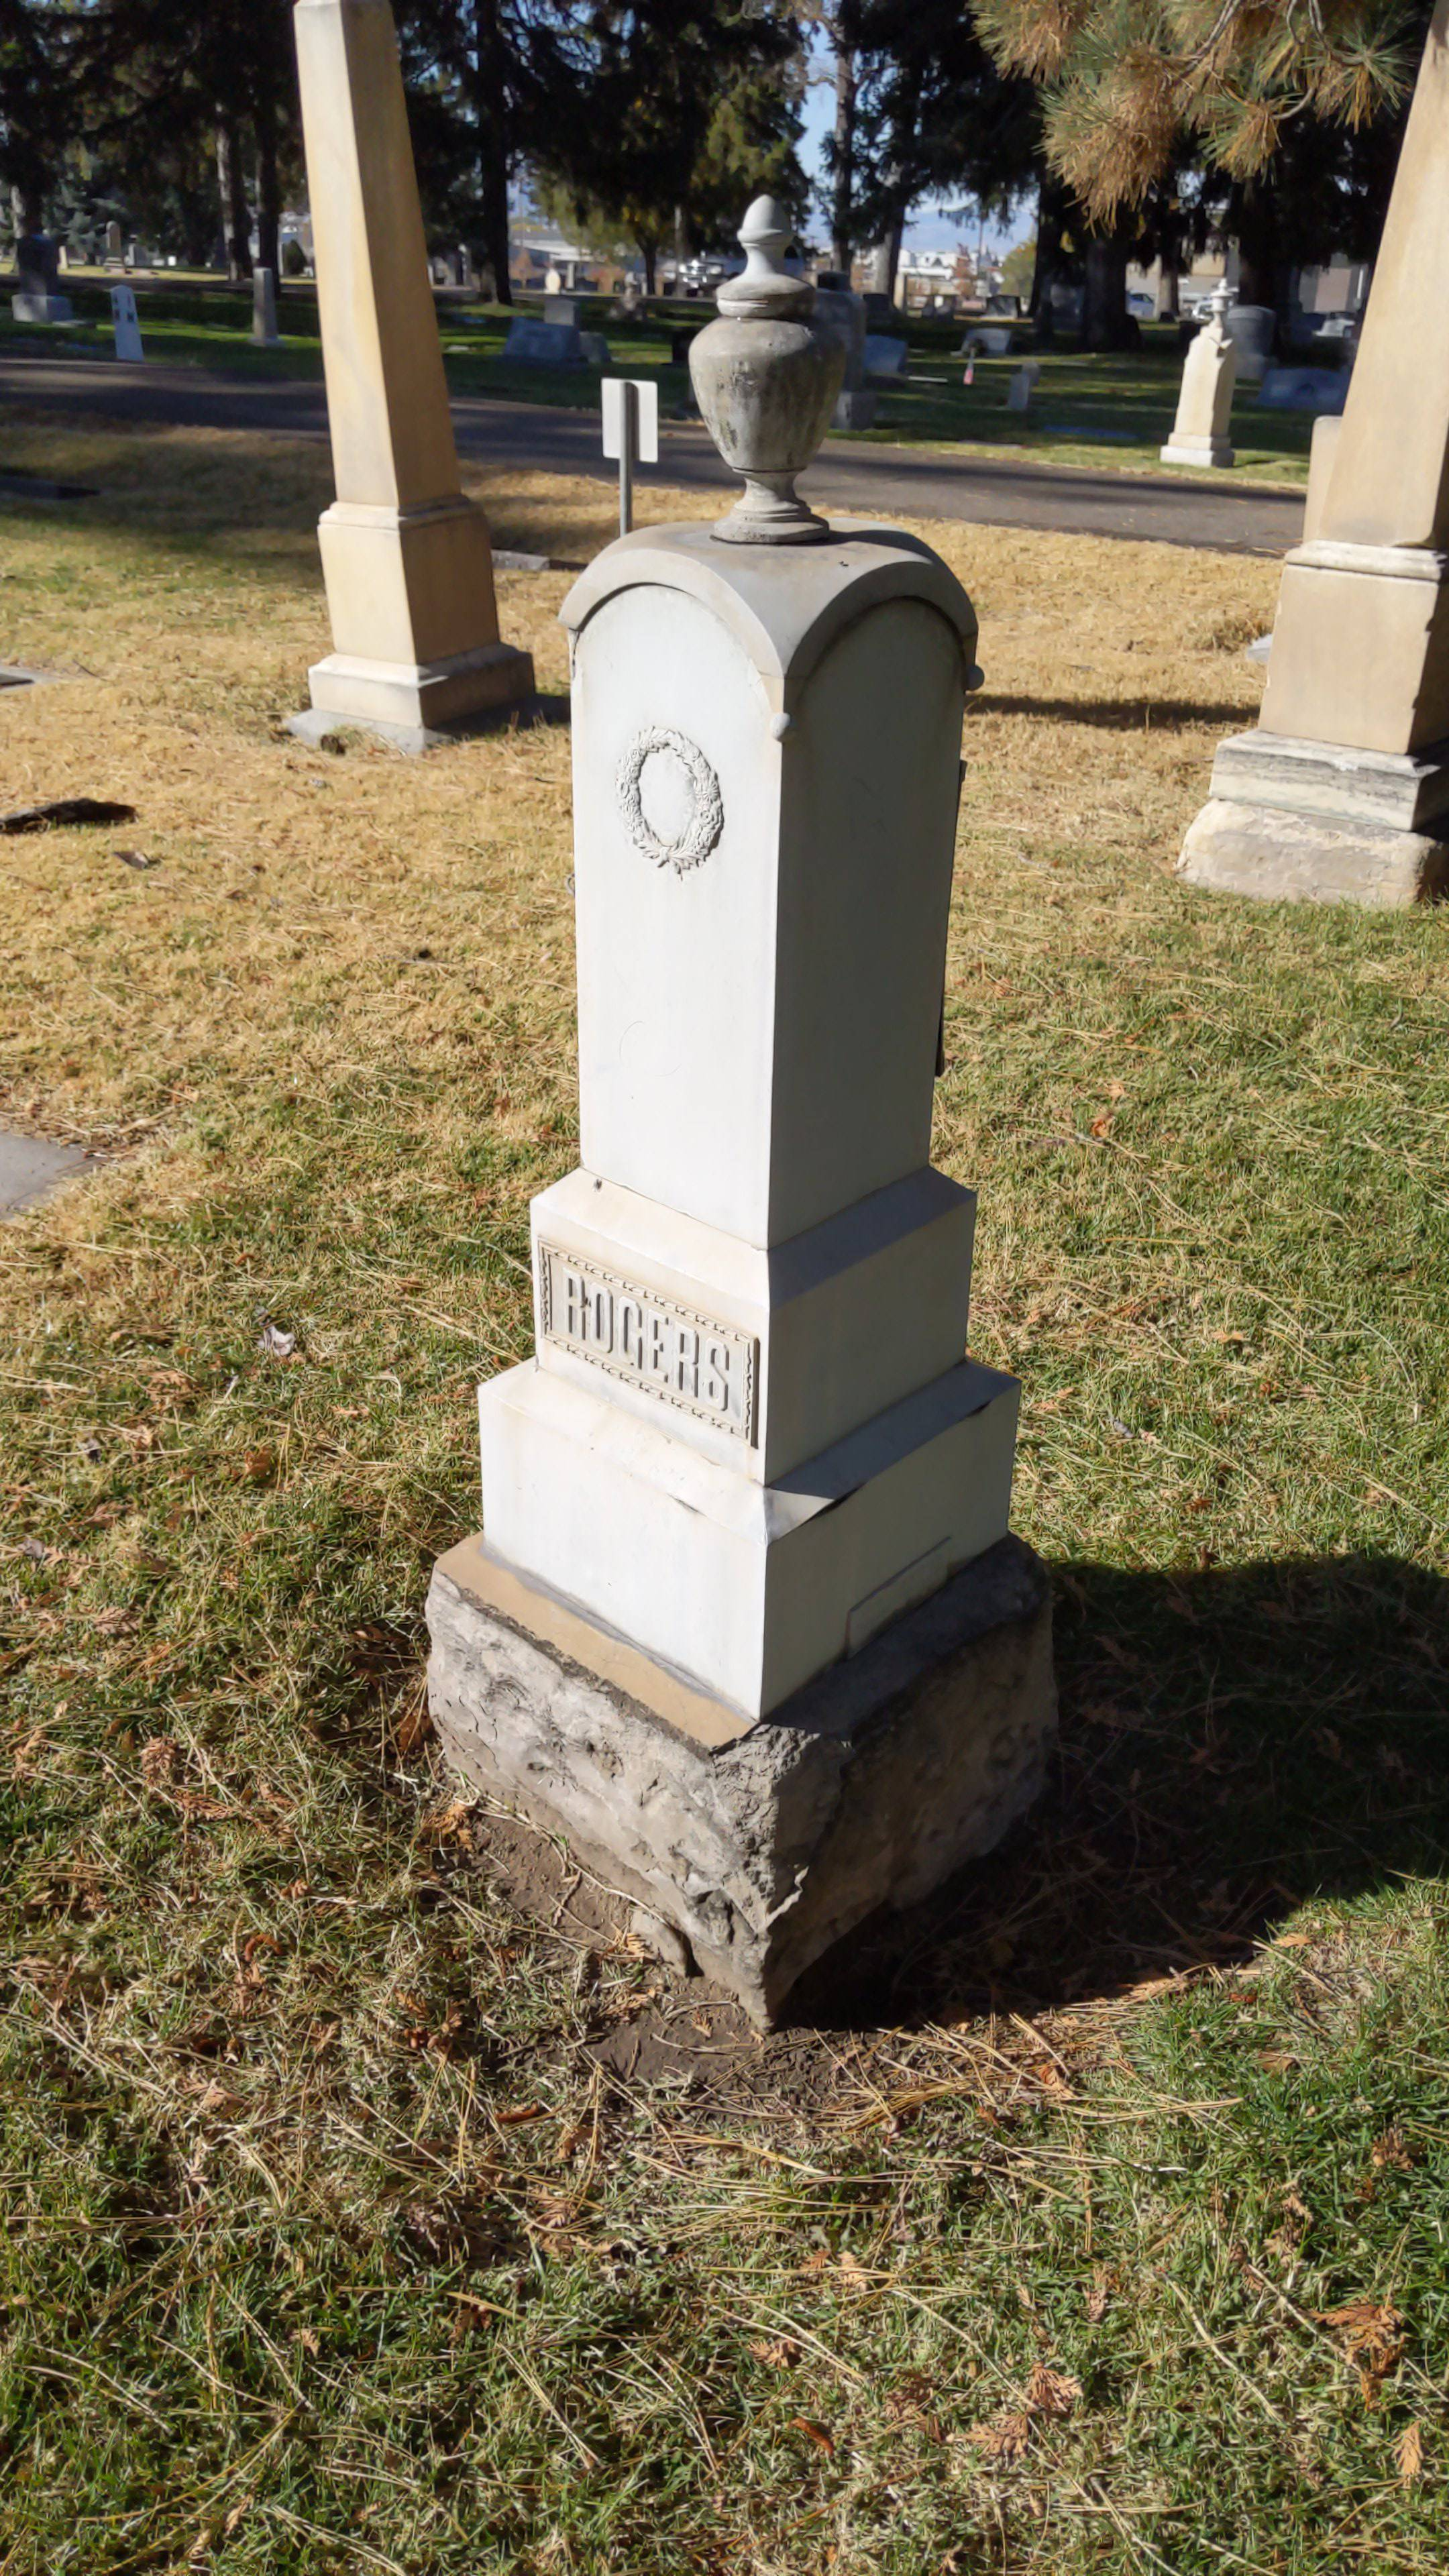obelisk: (479, 195, 1019, 1718)
